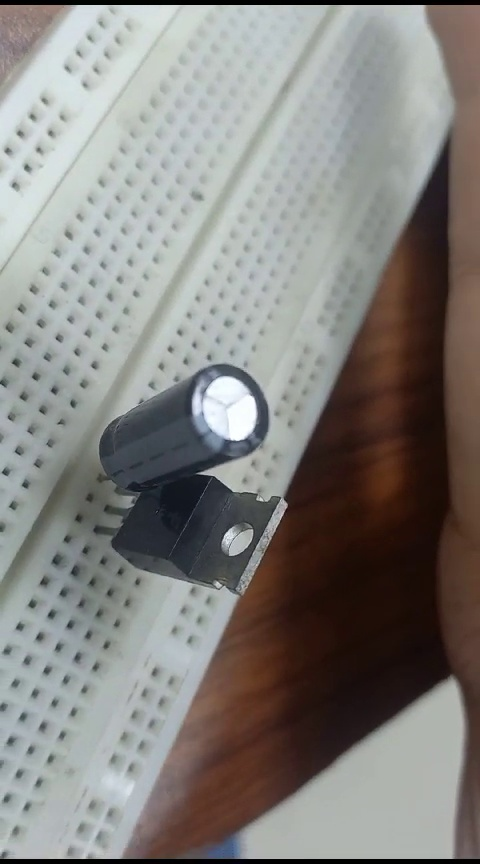capacitor: (92, 356, 270, 483)
voltage regulator: (106, 456, 302, 601)
